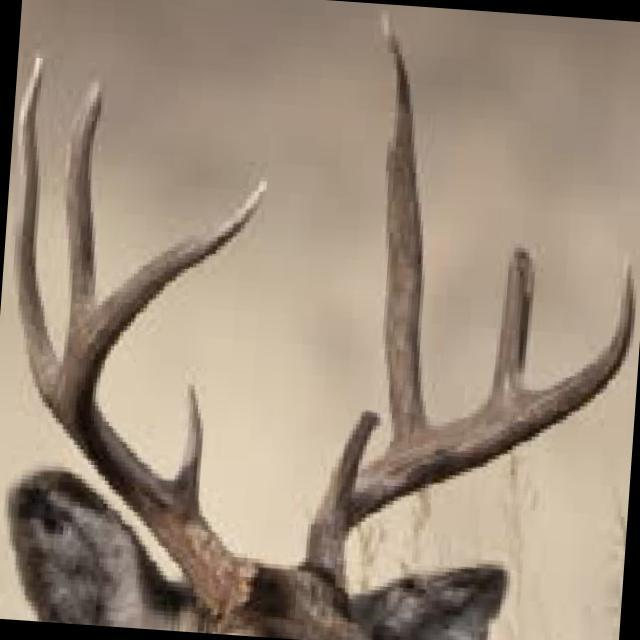L-F: (295, 262, 636, 600)
L-G1: (321, 409, 384, 525)
L-G2: (379, 9, 431, 445)
L-G3: (486, 243, 536, 403)
R-F: (51, 177, 268, 616)
R-G1: (169, 381, 204, 512)
R-G2: (12, 53, 65, 414)
